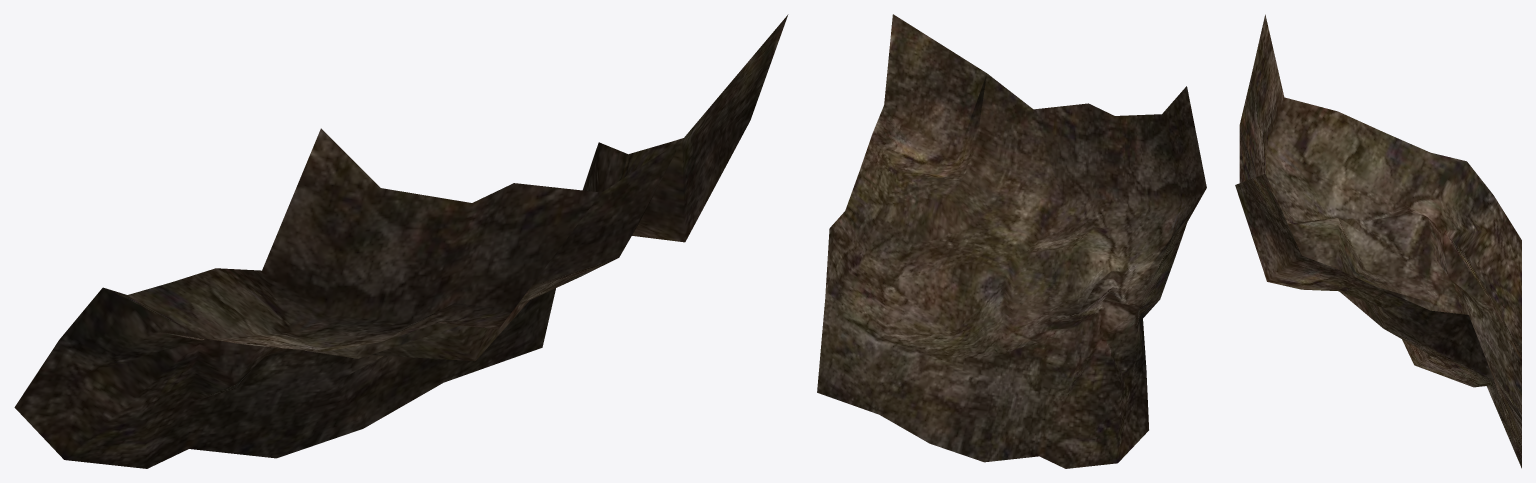
3 views of the same model, side by side, from view 1: azimuth 30°, elevation 25°; view 2: azimuth 150°, elevation 25°; view 3: azimuth 270°, elevation 25° (orthographic). The views are drawn at different scales.
Visible parts, largest first — view 1: model_Object80; view 2: model_Object80; view 3: model_Object80.
Boxes of the visible parts, x1,y1,x2,y2 form: model_Object80: (14,14,788,468); model_Object80: (817,14,1206,468); model_Object80: (1235,14,1521,468).
Bounding box in the file's own units: 8.64 × 6.96 × 5.19.
1 material, 1 textured.
